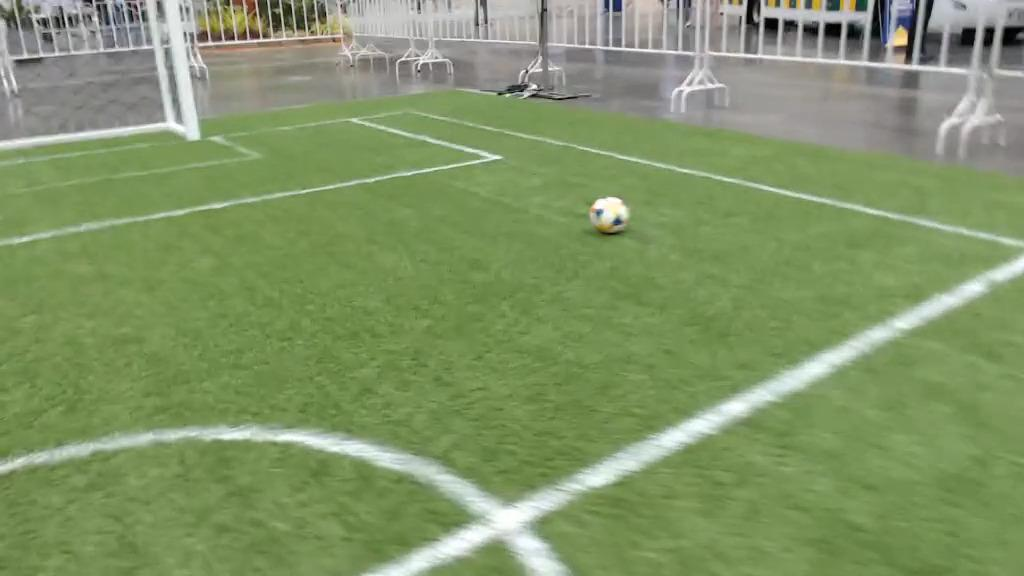ball: (589, 197, 629, 234)
